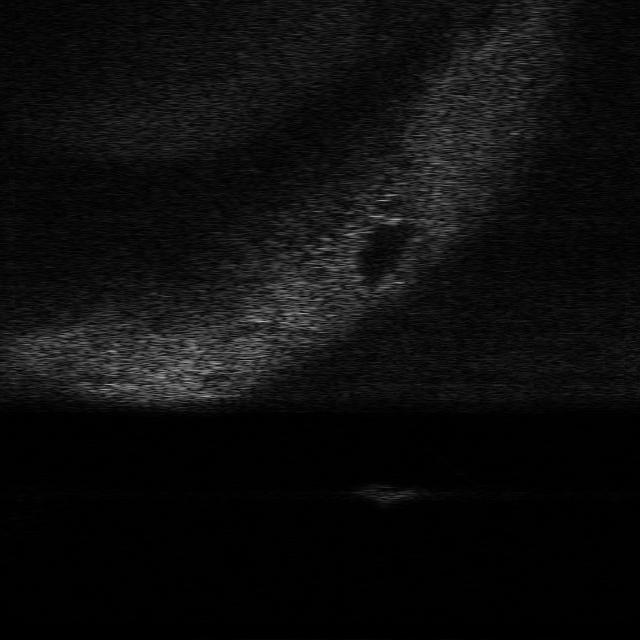cube: (358, 480, 423, 505)
